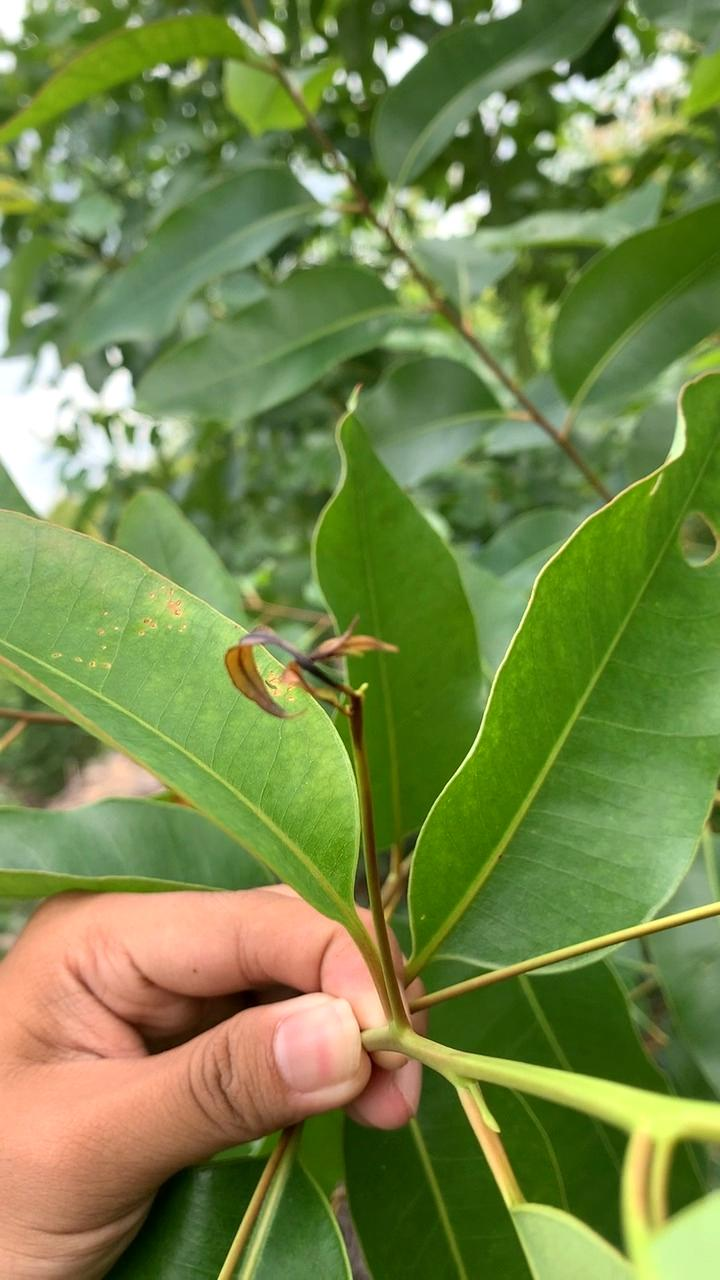Helopeltis-Withered Sprout: (208, 600, 421, 757)
